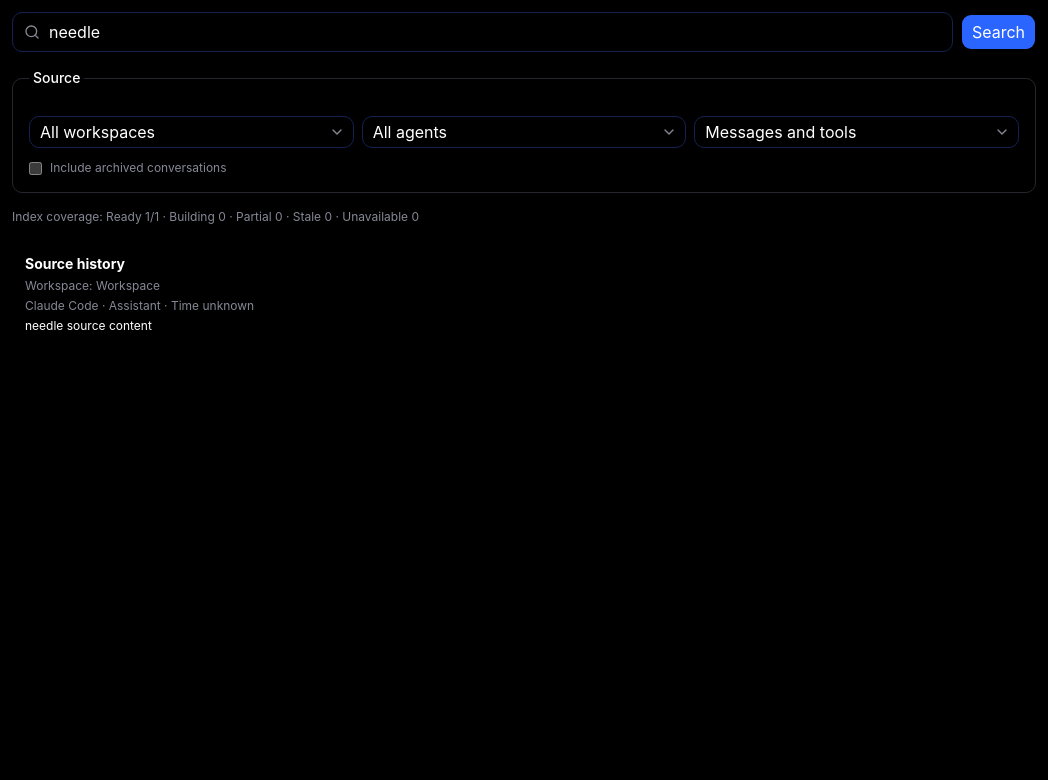
Scenario: explicit history session opening › does not navigate when the current catalog changes to metadata-only
The width and height of the screenshot is (1048, 780).
Click the button "Source history": [75, 264] box [12,241,1036,347]
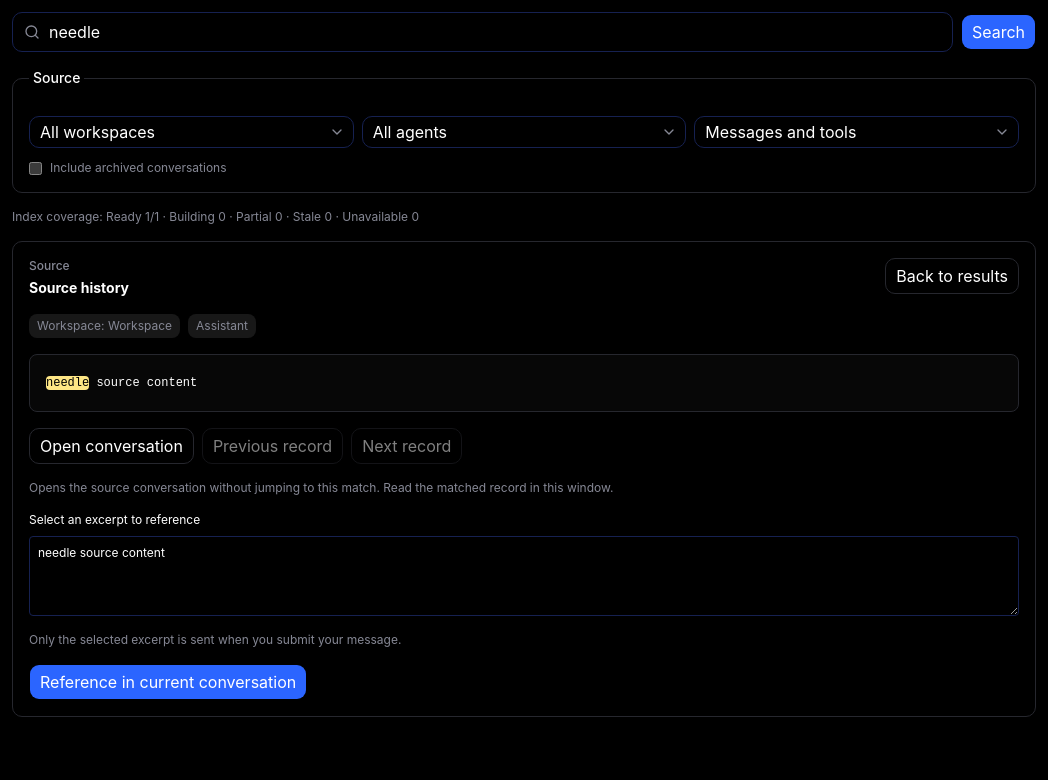
Now the element "Source" is shown, box [12,241,1036,717]
Click the button "Open conversation": [111, 446] box [29,428,194,464]
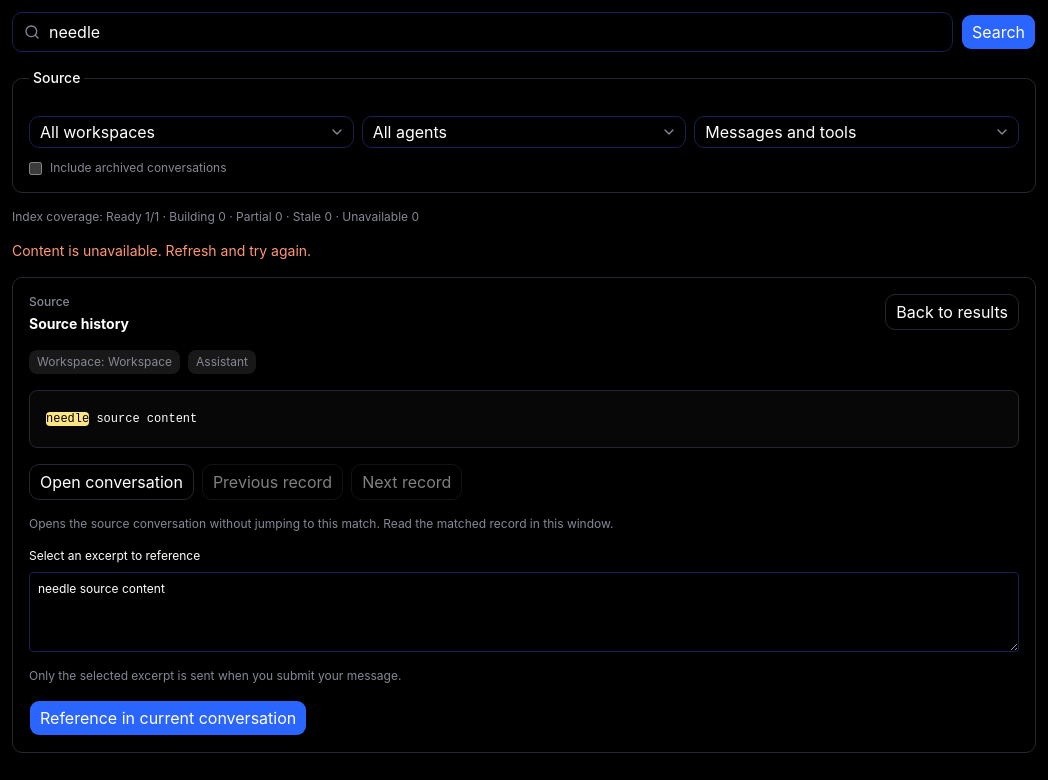
Now the button "Open conversation" is enabled, box [29,464,194,500]
Now the message "Content is unavailable. Refresh and try again." is shown, box [12,242,311,259]
